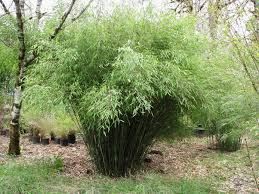bamboo: (39, 7, 218, 175), (208, 31, 259, 151)
